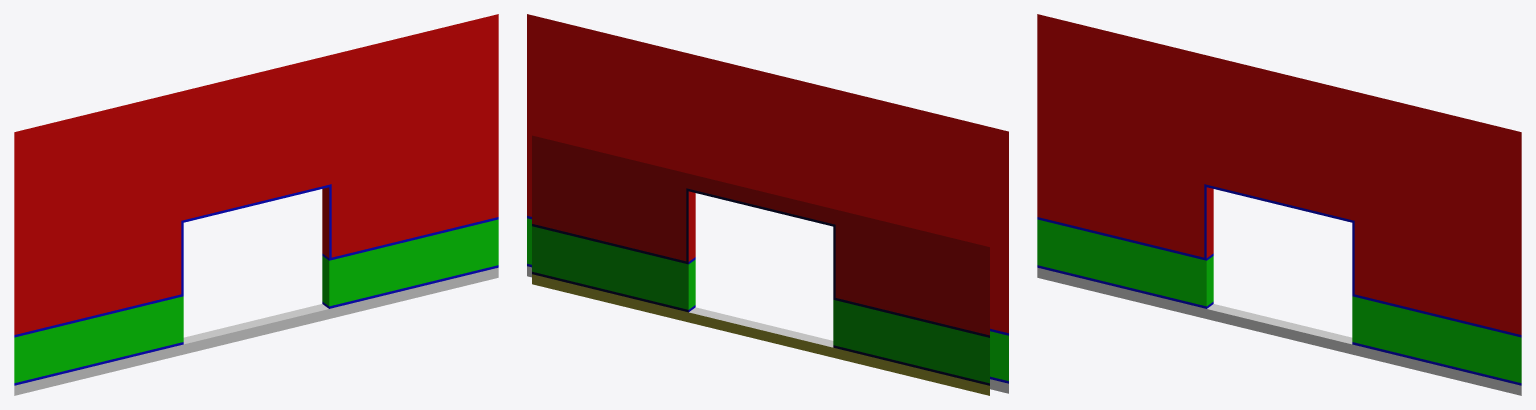
File: SM_Room10x4DoorA.fbx
3 views of the same model, side by side, from view 1: azimuth 30°, elevation 25°; view 2: azimuth 150°, elevation 25°; view 3: azimuth 330°, elevation 25° (orthographic).
Parts seen in each view (by area): view 1: SM_Room10x4DoorA; view 2: SM_Room10x4DoorA; view 3: SM_Room10x4DoorA.
Boxes of the visible parts, <box> form: SM_Room10x4DoorA: <box>14,14,498,395</box>; SM_Room10x4DoorA: <box>527,14,1008,395</box>; SM_Room10x4DoorA: <box>1037,14,1521,395</box>.
Size of the model in its own units: 1000 by 520 by 25.
